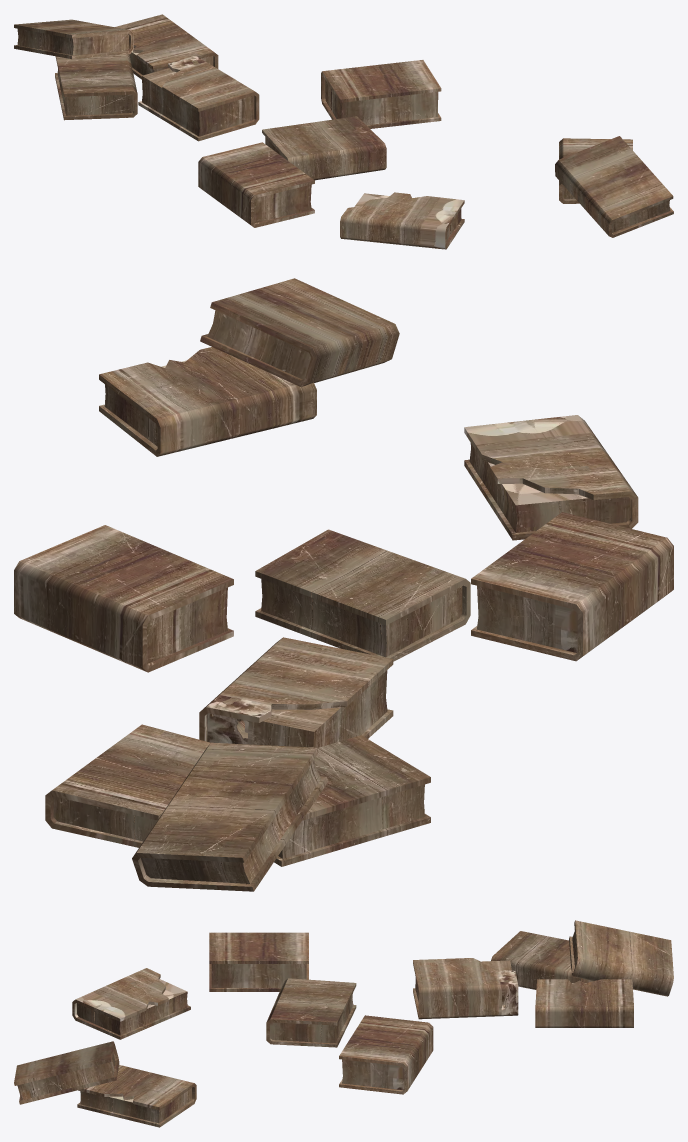
3 views of the same model, one above another, from view 1: azimuth 30°, elevation 25°; view 2: azimuth 150°, elevation 25°; view 3: azimuth 270°, elevation 25° (orthographic). The views are drawn at different scales.
Visible parts, largest first — view 1: SM_DR_Bookshelf_04_LOD0; view 2: SM_DR_Bookshelf_04_LOD0; view 3: SM_DR_Bookshelf_04_LOD0.
Part boxes in pixels (bbox=[...]): SM_DR_Bookshelf_04_LOD0: bbox=[14, 14, 673, 249]; SM_DR_Bookshelf_04_LOD0: bbox=[14, 278, 673, 891]; SM_DR_Bookshelf_04_LOD0: bbox=[14, 920, 673, 1127].
Bounding box in the file's own units: 1.6 × 0.24 × 2.53.
